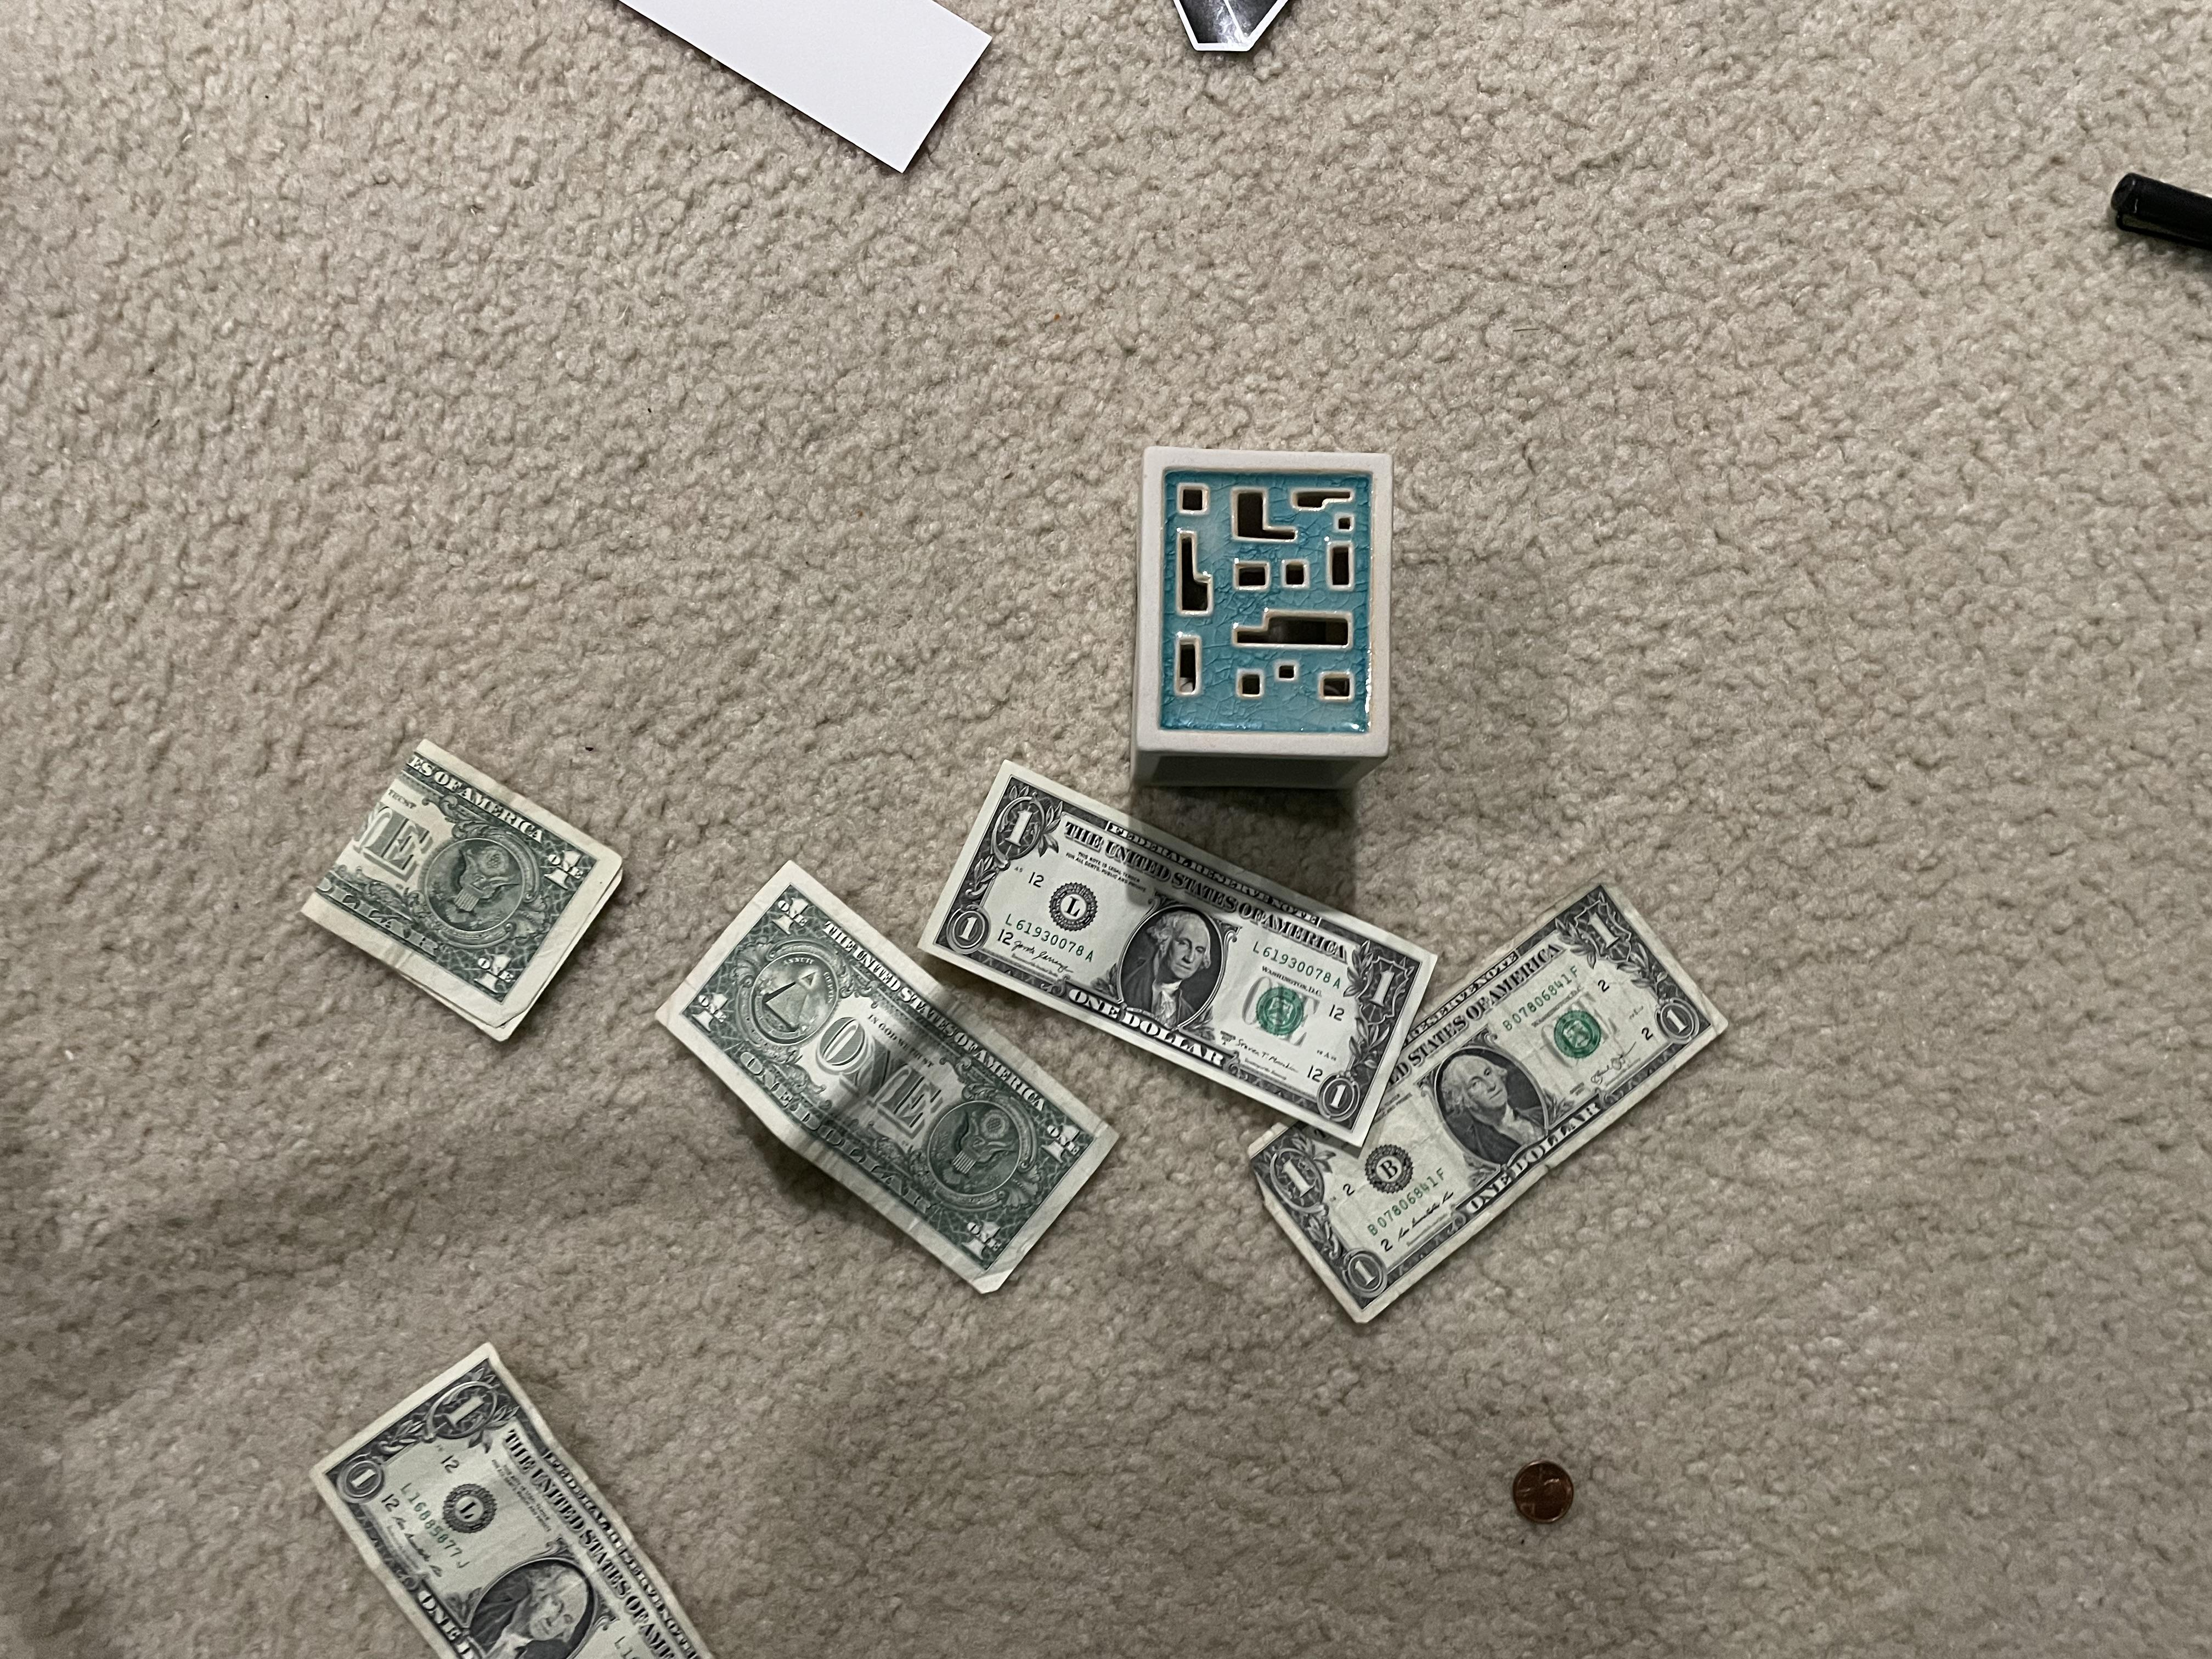OneBill: (1176, 873, 1747, 1328), (921, 751, 1446, 1164), (657, 850, 1123, 1314), (284, 1359, 758, 1656), (296, 742, 629, 1058)
